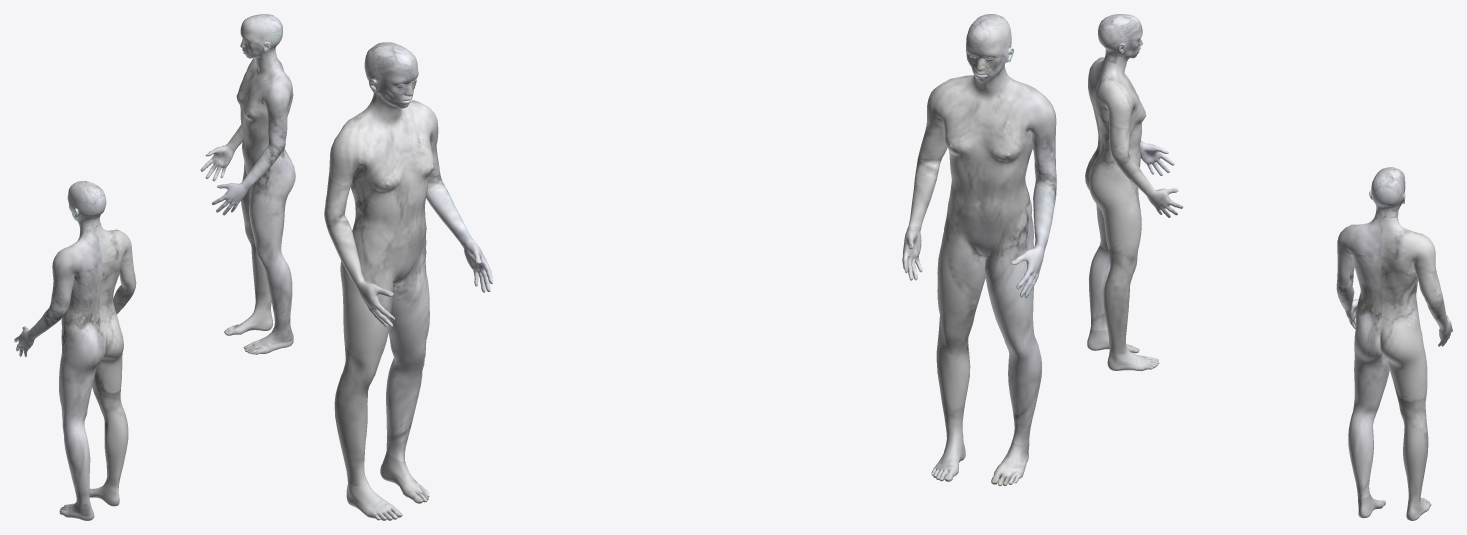
The model's file is Maniquie.obj.
3 views of the same model, side by side, from view 1: azimuth 30°, elevation 25°; view 2: azimuth 150°, elevation 25°; view 3: azimuth 270°, elevation 25° (orthographic). The views are drawn at different scales.
Visible parts, largest first — view 1: maniquiMesh.001, maniquiMesh; view 2: maniquiMesh.001, maniquiMesh; view 3: maniquiMesh, maniquiMesh.001.
Boxes of the visible parts, x1,y1,x2,y2 form: maniquiMesh.001: (14, 181, 136, 520); maniquiMesh: (200, 14, 295, 354); maniquiMesh.001: (902, 14, 1056, 486); maniquiMesh: (324, 42, 492, 520); maniquiMesh: (1336, 167, 1452, 520); maniquiMesh.001: (1085, 14, 1183, 371).
Size of the model in its own units: 2.47 by 2.01 by 1.95.
